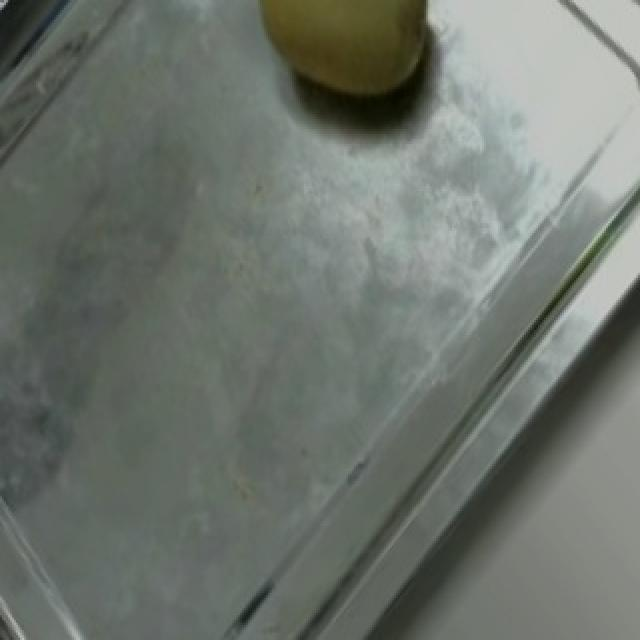Fruit: (218, 0, 466, 141)
